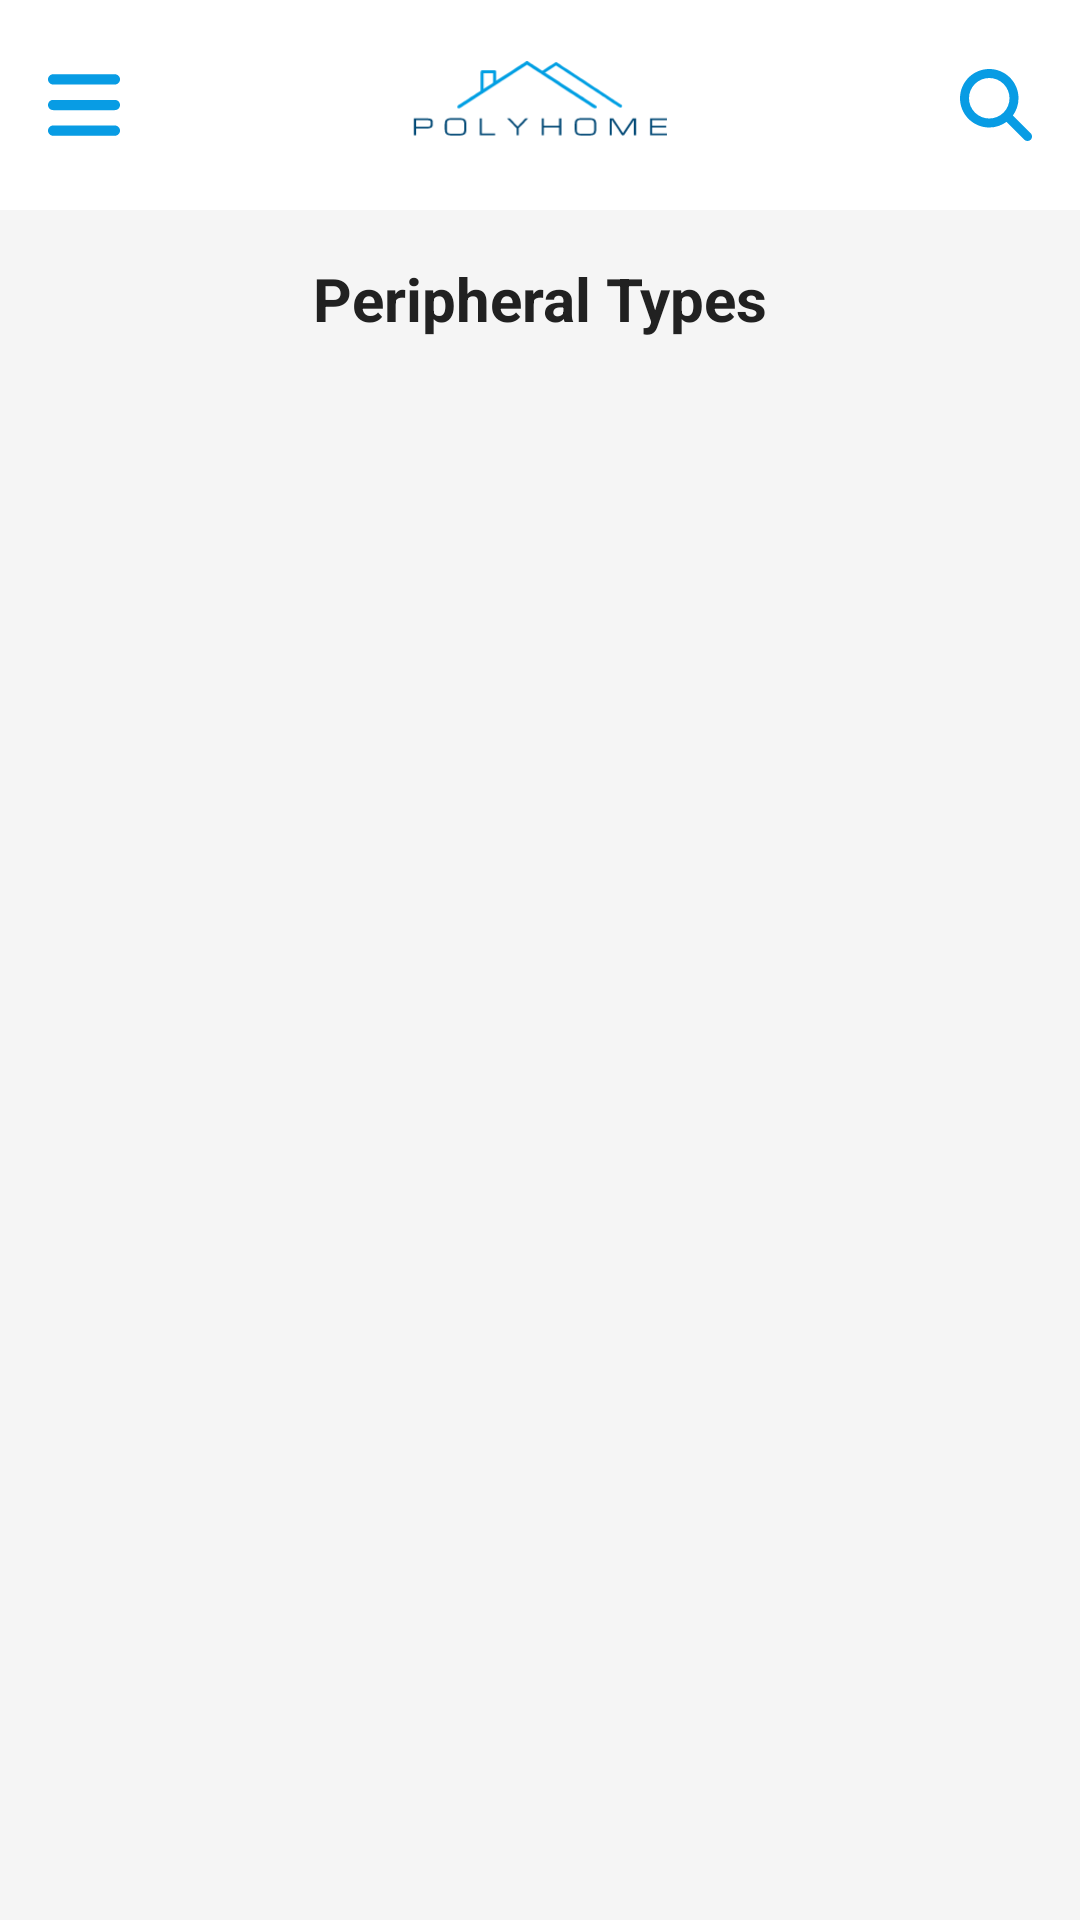

Icons on this 1080px x 1920px Android screen, each with the point to tap as (x,y):
Menu Button: (84,105)
Search Icon: (996,105)
